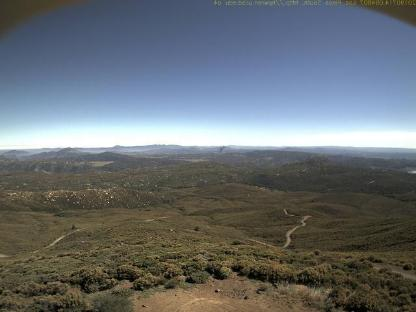smoke: (215, 142, 229, 156)
